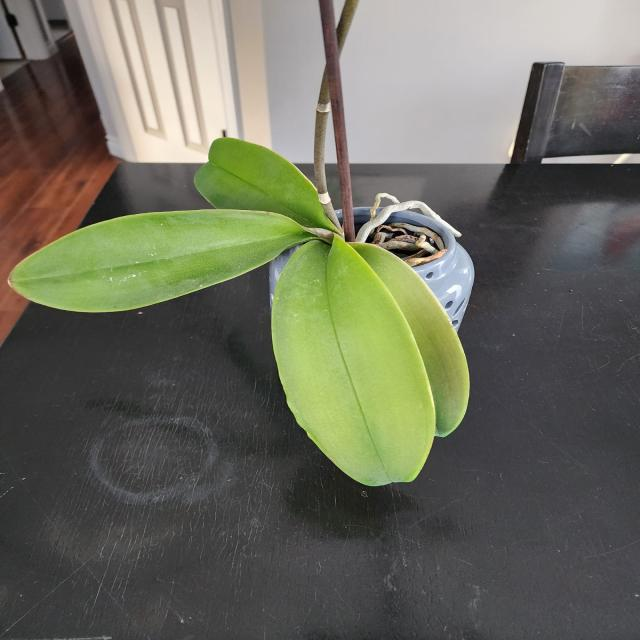leaf: (274, 242, 440, 484), (13, 210, 313, 311), (198, 140, 330, 229)
plant: (0, 2, 601, 523)
pot: (260, 189, 502, 370)
